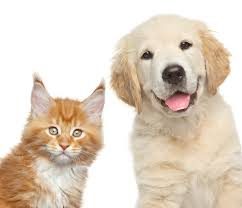cat: (19, 71, 111, 172)
dog: (107, 13, 235, 123)
